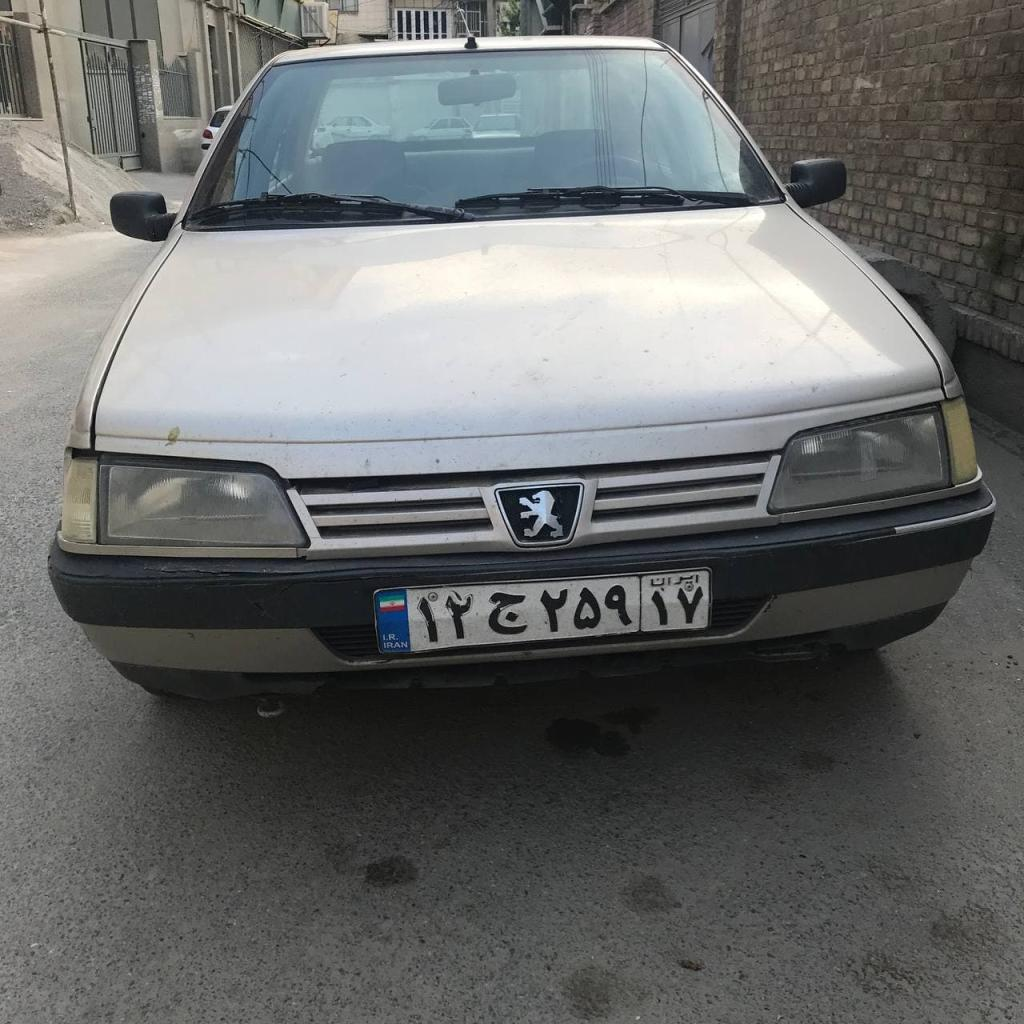Plates: (373, 569, 710, 654)
